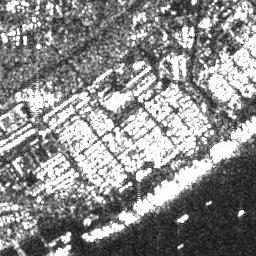ship: (175, 212, 190, 224), (237, 208, 245, 218)
